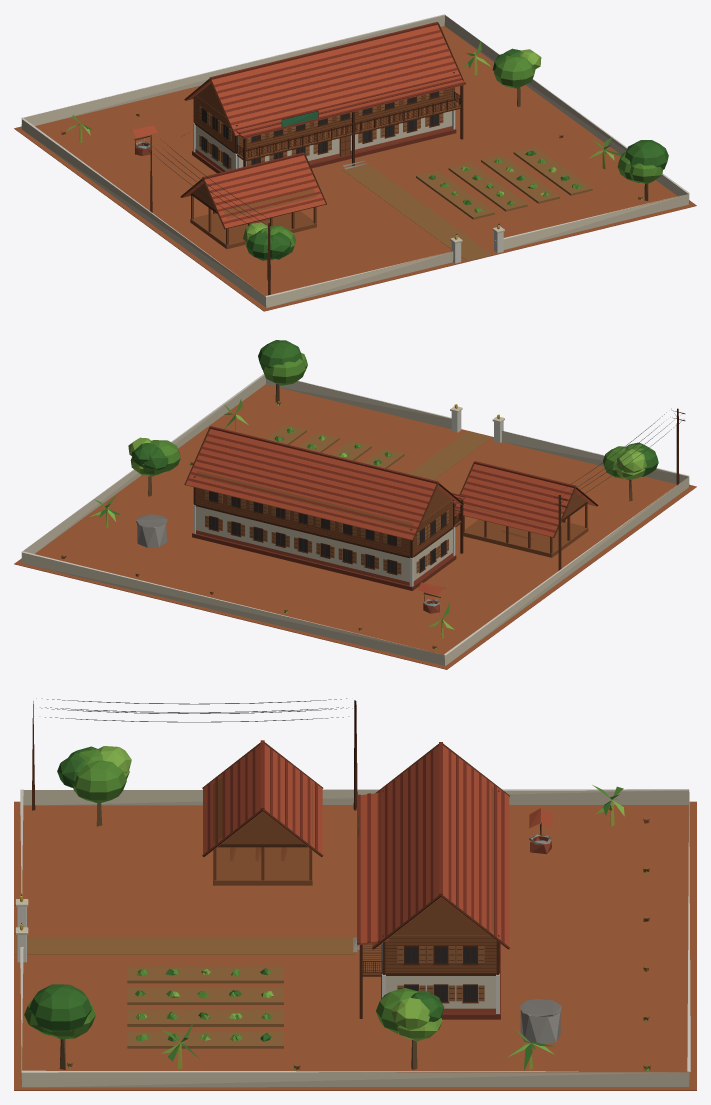
The model's file is hospital.glb.
3 views of the same model, one above another, from view 1: azimuth 30°, elevation 25°; view 2: azimuth 150°, elevation 25°; view 3: azimuth 270°, elevation 25° (orthographic). The views are drawn at different scales.
Visible parts, largest first — view 1: body, windows; view 2: body, windows; view 3: body, windows.
Boxes of the visible parts, left/top/right/bottom form: body: left=14, top=14, right=696, bottom=311; windows: left=202, top=91, right=499, bottom=239; body: left=14, top=340, right=696, bottom=669; windows: left=209, top=404, right=499, bottom=573; body: left=14, top=698, right=696, bottom=1090; windows: left=20, top=896, right=476, bottom=1001.
Bounding box in the file's own units: 47.9 × 10.29 × 47.9.
